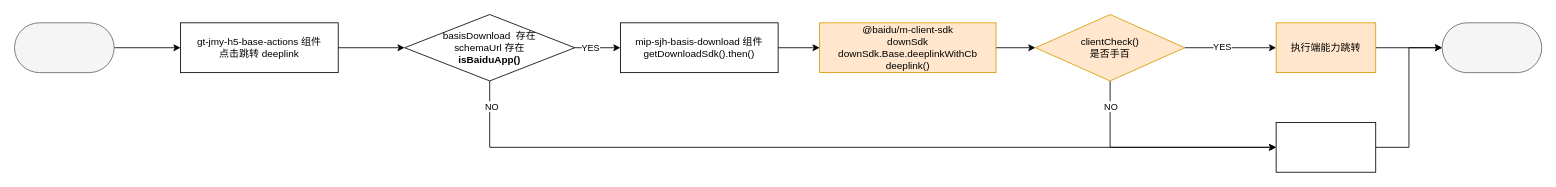
This 1556x187 diagram has some shape labels left out. The shapes that lost their labels are listed below. From the top down, each one's centre as x and y in pixels, then its label:
point 64,47: 开始
point 1491,47: 结束
point 1325,147: normalJump() 普通跳转
